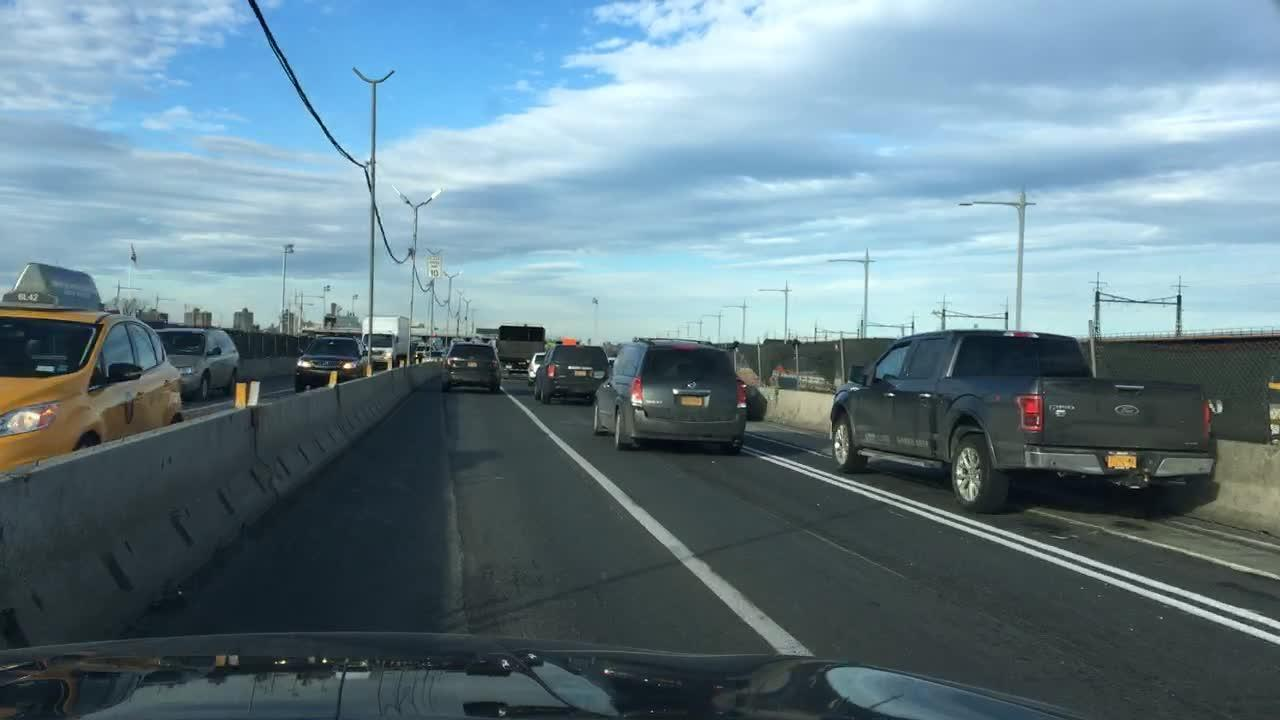ford: (1106, 398, 1149, 423)
